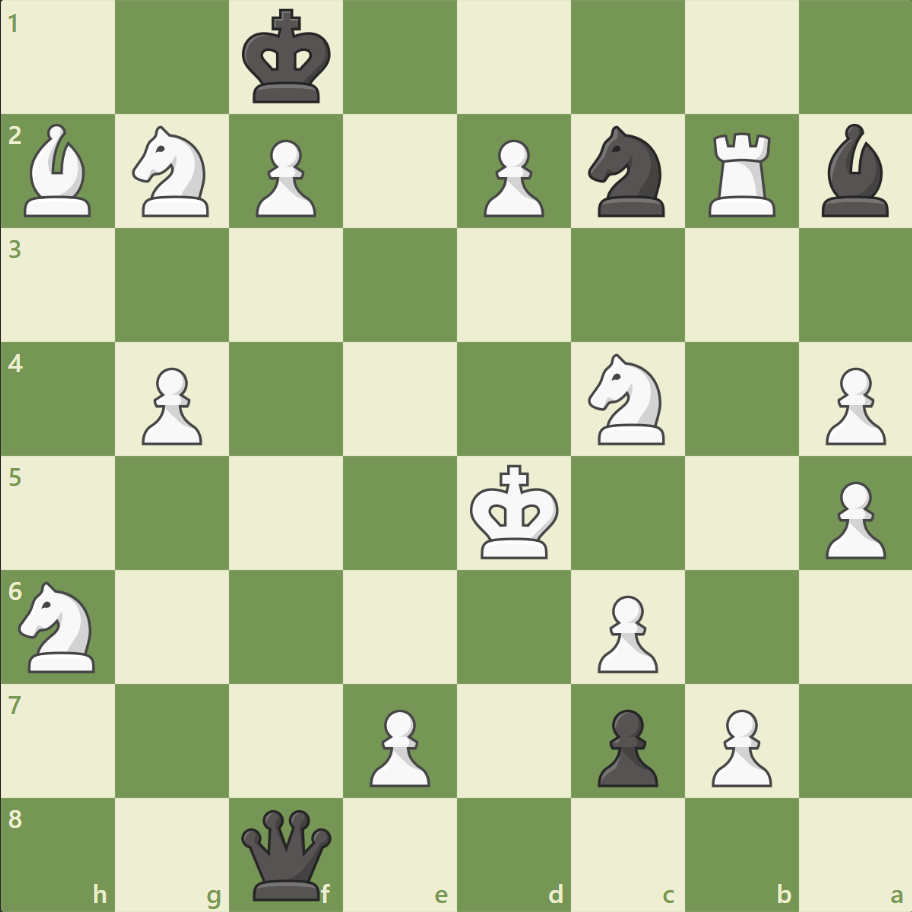B: (17, 120, 101, 222)
K: (465, 458, 565, 566)
N: (124, 121, 222, 223), (11, 575, 108, 677), (579, 348, 676, 450)
P: (701, 700, 776, 791), (133, 359, 208, 450), (474, 132, 549, 223), (247, 132, 322, 223), (361, 700, 435, 791), (588, 586, 662, 677), (815, 473, 889, 564), (815, 359, 889, 450)
R: (700, 125, 783, 222)
b: (812, 120, 896, 222)
k: (238, 4, 338, 112)
n: (579, 121, 676, 223)
p: (588, 700, 662, 791)
q: (237, 804, 336, 903)
